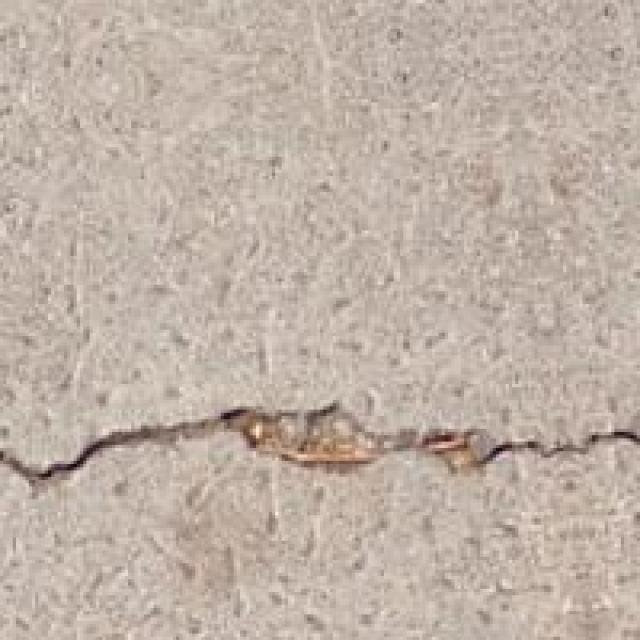crack: (0, 327, 637, 550)
